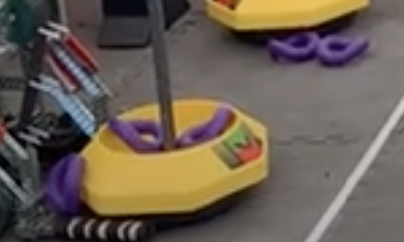ring: (46, 152, 84, 213), (108, 114, 171, 150), (178, 107, 233, 146), (316, 34, 369, 65), (268, 31, 319, 63)
